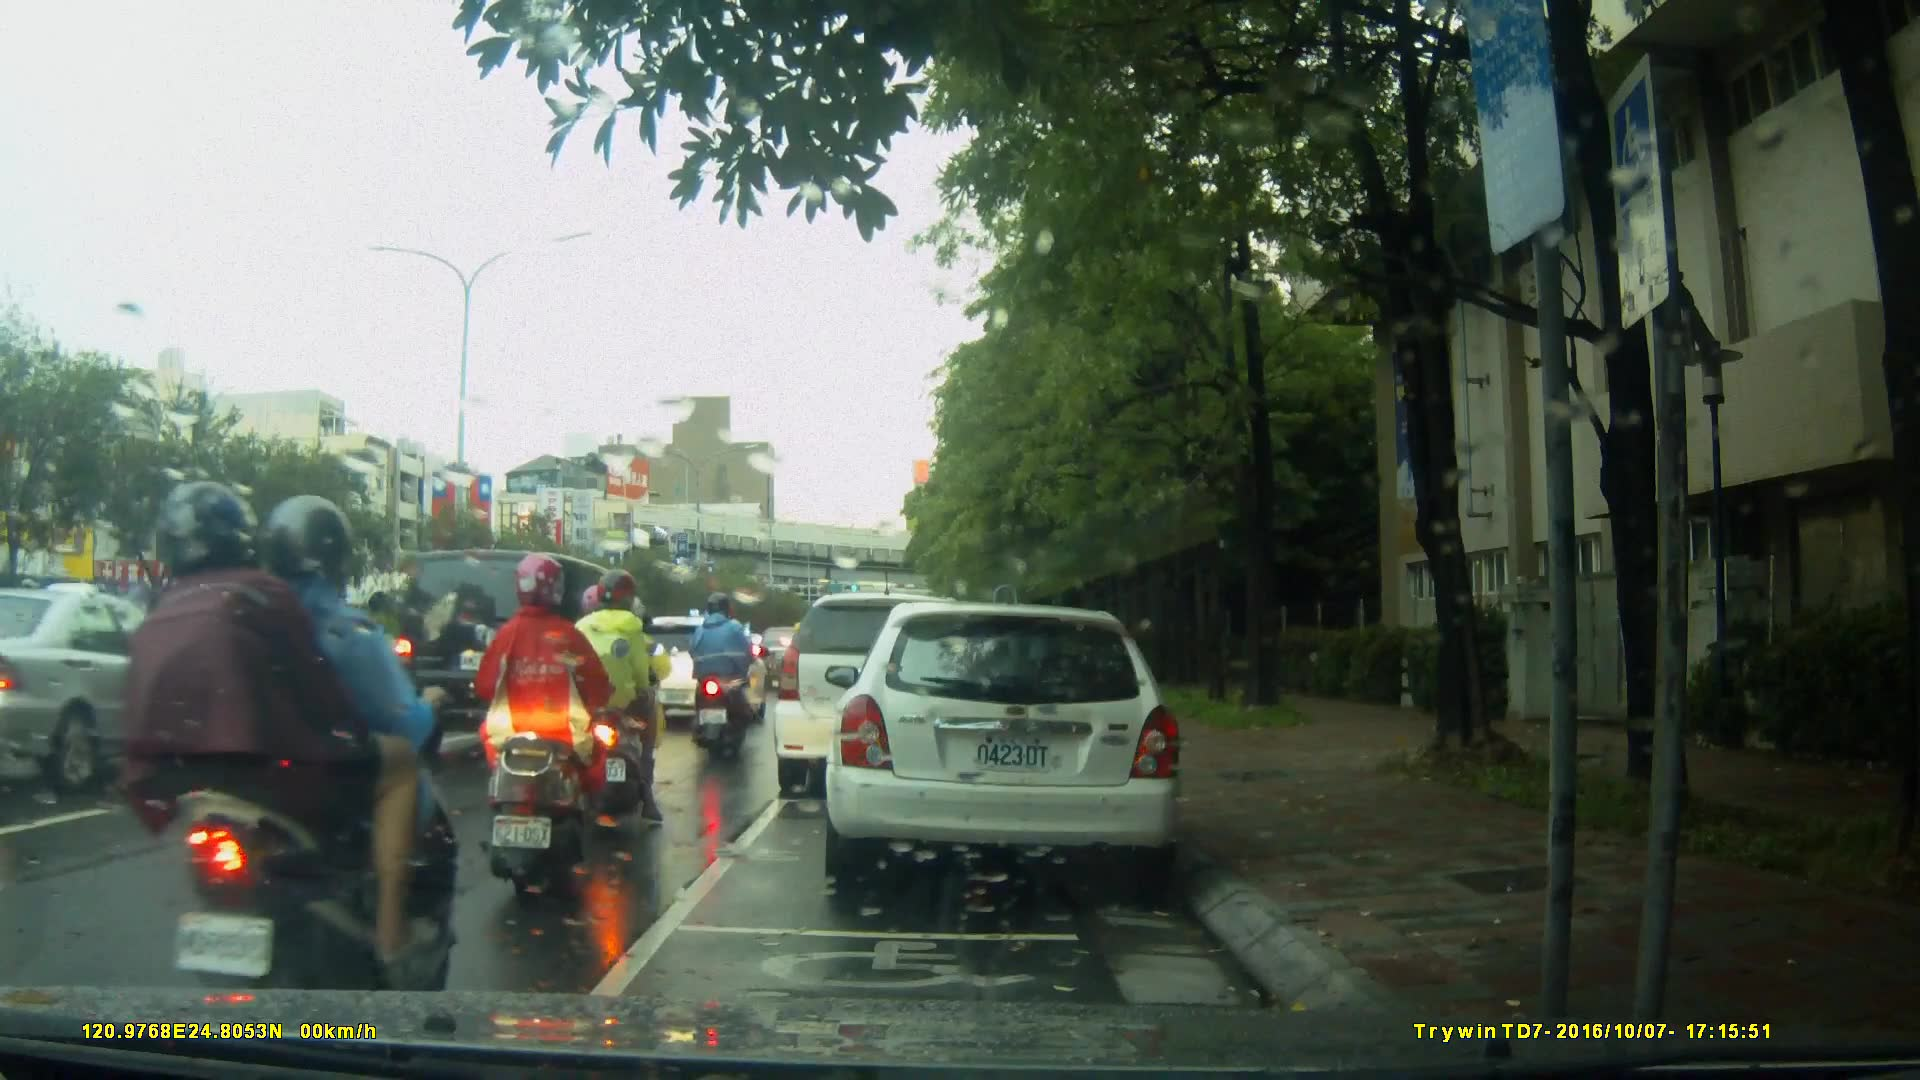rider: (108, 485, 452, 1019), (474, 551, 621, 909), (242, 568, 397, 802), (570, 569, 680, 832), (596, 596, 673, 804), (684, 592, 758, 756)
vehicle: (822, 604, 1188, 883), (395, 547, 656, 761), (1, 587, 217, 801), (774, 595, 995, 802)
